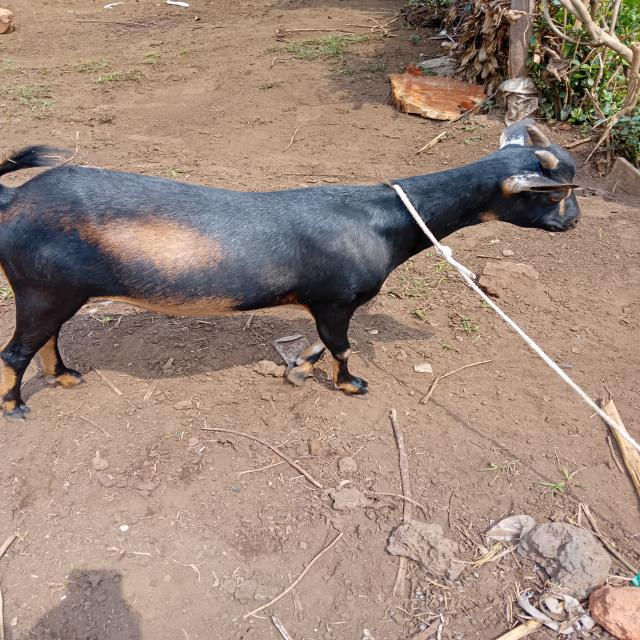goat: (0, 74, 614, 452)
